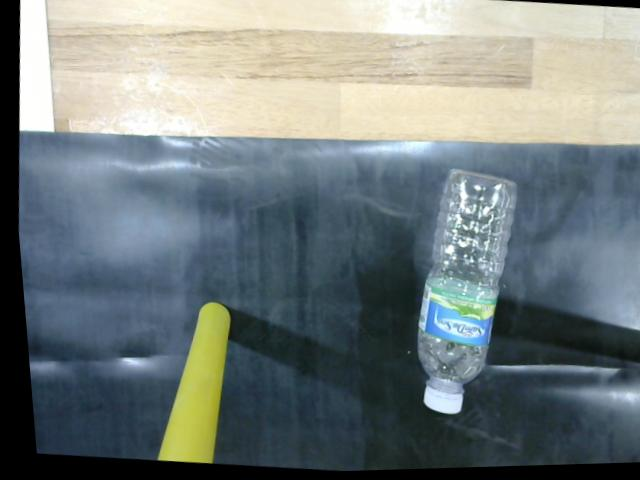bottle: (403, 163, 521, 425)
